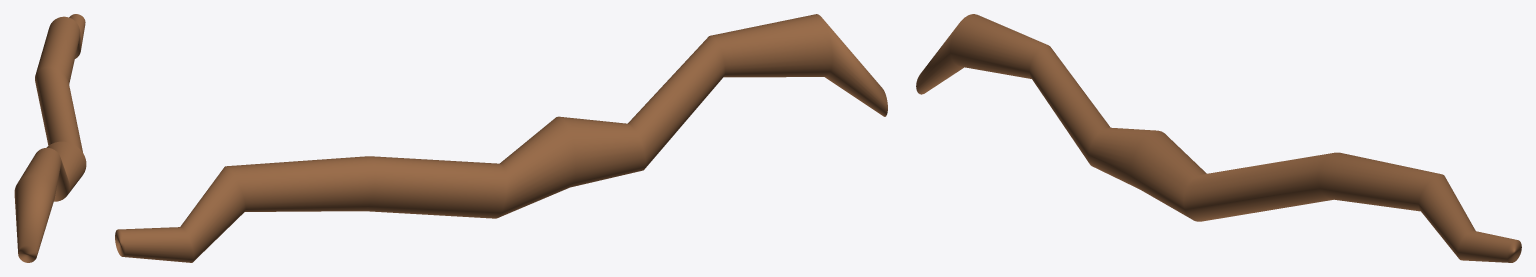
File: stick.fbx
3 renders of one model, left to right at view 1: azimuth 30°, elevation 25°; view 2: azimuth 150°, elevation 25°; view 3: azimuth 270°, elevation 25°, orthographic. The views are drawn at different scales.
Visible parts, largest first — view 1: Cylinder; view 2: Cylinder; view 3: Cylinder.
Part boxes in pixels (x1=…): Cylinder: x1=14, y1=14, x2=86, y2=262; Cylinder: x1=115, y1=14, x2=887, y2=262; Cylinder: x1=916, y1=14, x2=1521, y2=262.
Bounding box in the file's own units: 311 × 98.53 × 432.
